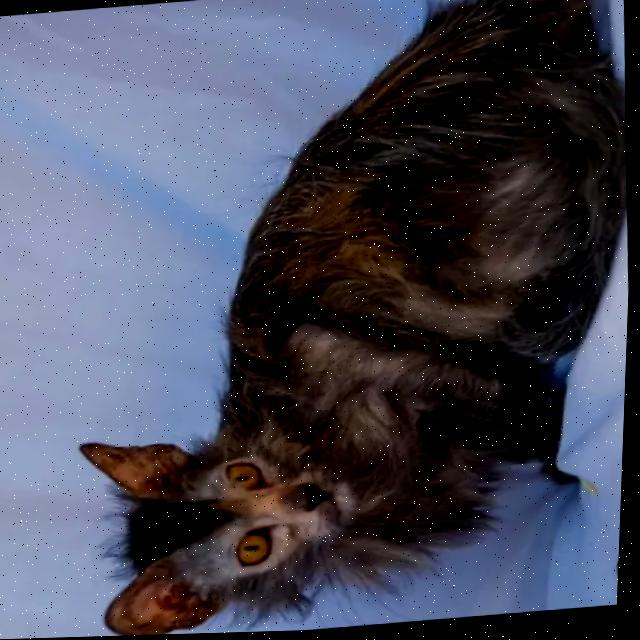Lykoi: (41, 0, 640, 639)
